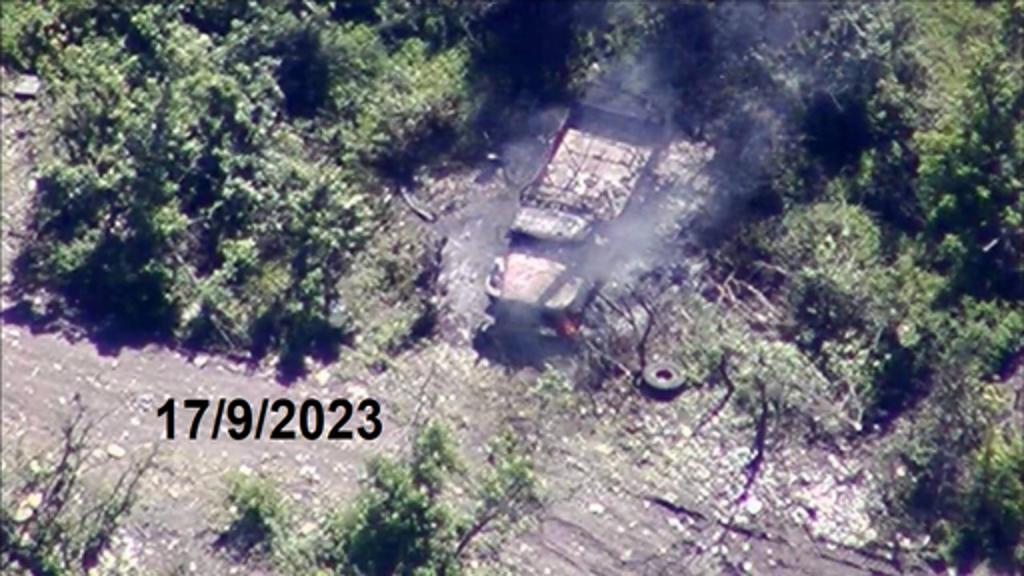TRUCK: (468, 98, 674, 338)
